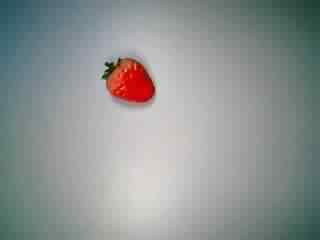strawberry: (90, 47, 163, 111)
